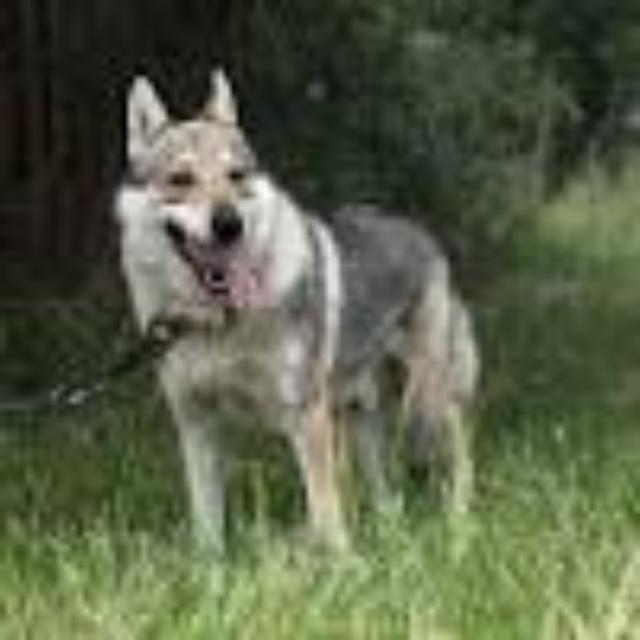dog: (92, 74, 510, 536)
